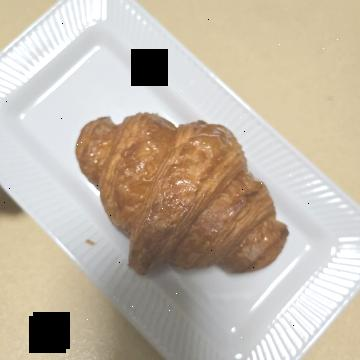croissant: (92, 52, 289, 290)
